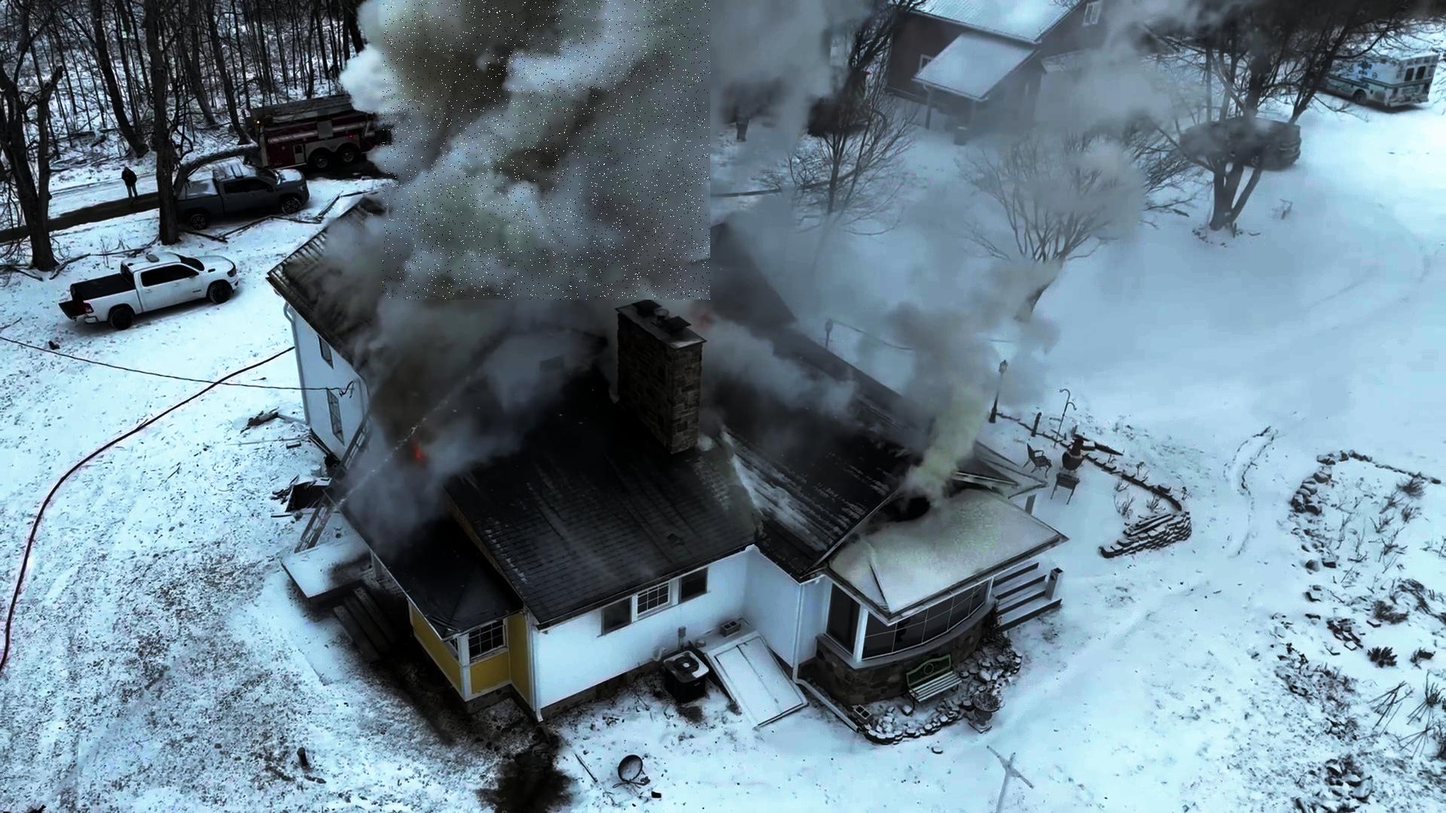smoke: (383, 0, 710, 300)
